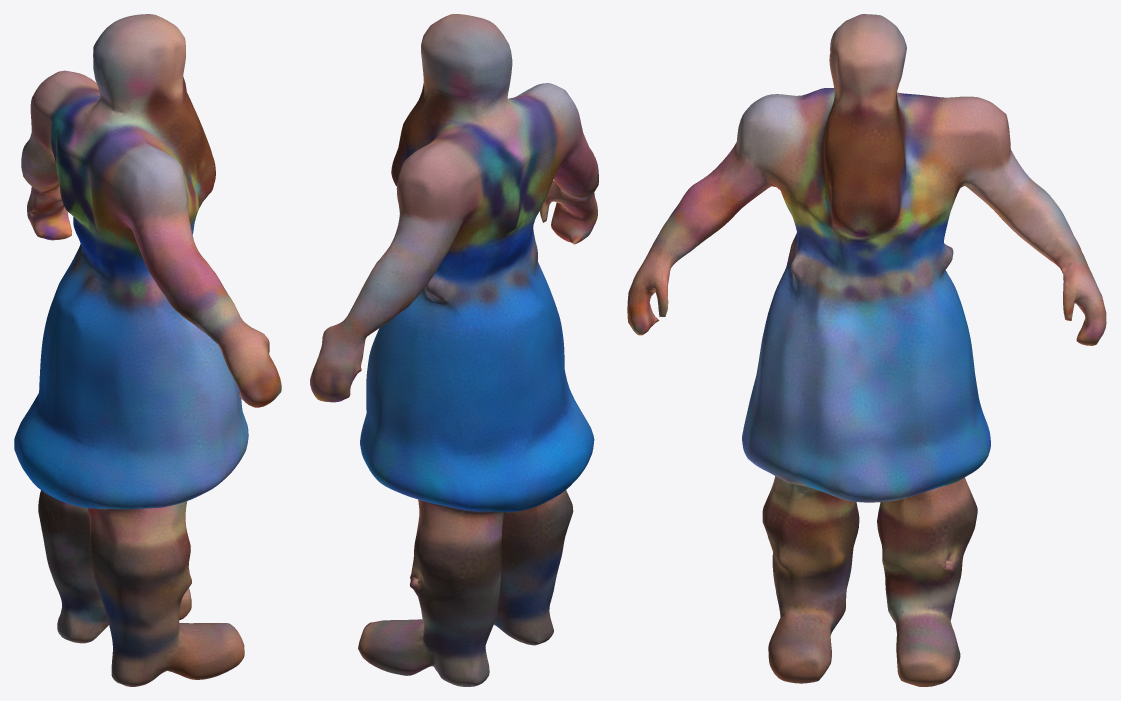
File: player.glb
3 views of the same model, side by side, from view 1: azimuth 30°, elevation 25°; view 2: azimuth 150°, elevation 25°; view 3: azimuth 270°, elevation 25° (orthographic).
Parts seen in each view (by area): view 1: Mesh1; view 2: Mesh1; view 3: Mesh1.
Part boxes in pixels (x1,y1,x2,y2): Mesh1: (14,14,281,686); Mesh1: (310,14,598,686); Mesh1: (627,14,1106,686).
Size of the model in its own units: 0.3905 by 1.2 by 0.8139.
Materials: 1 (1 with a texture image).
